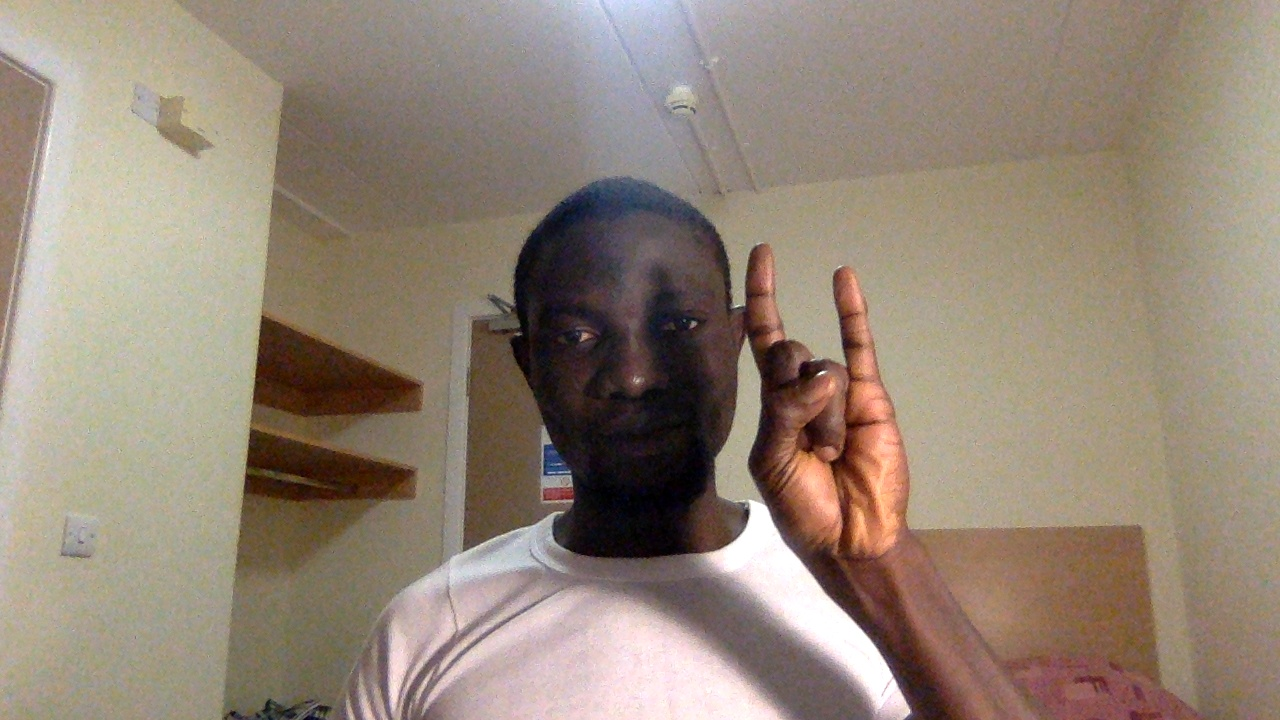I Love You: (741, 239, 942, 573)
